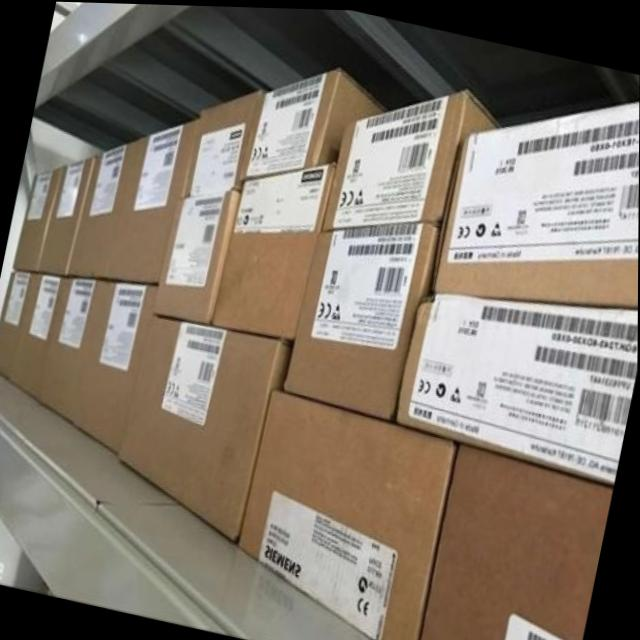box: (241, 389, 456, 640), (397, 291, 638, 482), (433, 101, 639, 303), (119, 316, 293, 537), (423, 443, 614, 640), (286, 224, 440, 418), (324, 93, 501, 226), (210, 161, 335, 338), (111, 116, 201, 282), (75, 278, 160, 452), (245, 70, 383, 176), (155, 193, 241, 323), (37, 274, 108, 423), (67, 143, 139, 278), (186, 90, 265, 196), (8, 275, 65, 400), (39, 154, 96, 274), (10, 168, 63, 275), (0, 271, 36, 383)
